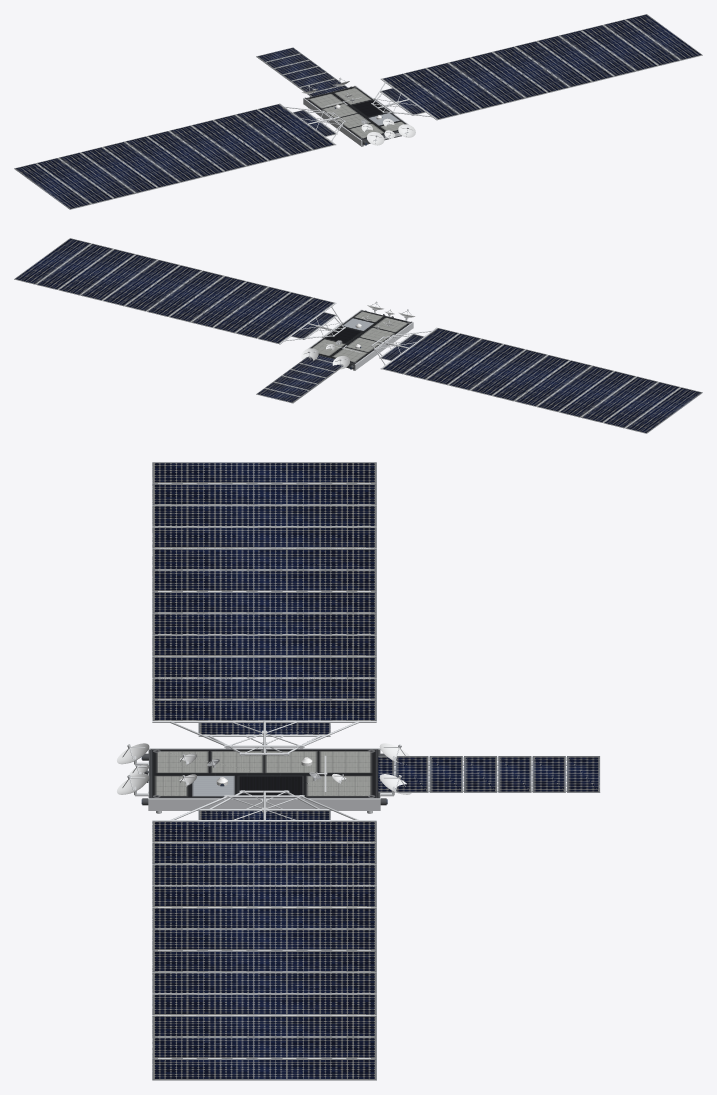
Rendered from Starlink.glb.
3 views of the same model, one above another, from view 1: azimuth 30°, elevation 25°; view 2: azimuth 150°, elevation 25°; view 3: azimuth 270°, elevation 25° (orthographic). The views are drawn at different scales.
Parts seen in each view (by area): view 1: V3_bus, V3_wL11, V3_wL1, V3_wL9, V3_wL3, V3_wL5, V3_wL6, V3_wL10, V3_wL2, V3_wR1, V3_wL4, V3_wL7 (+22 smaller); view 2: V3_bus, V3_wL11, V3_wL1, V3_wL9, V3_wL3, V3_wL5, V3_wL6, V3_wL10, V3_wL2, V3_wR1, V3_wL4, V3_wL7 (+23 smaller); view 3: V3_bus, V3_wL2, V3_wL7, V3_wR11, V3_wL4, V3_wL9, V3_wR2, V3_wR7, V3_wR4, V3_wR9, V3_wR3, V3_wR8 (+23 smaller).
Part boxes in pixels (x1,y1,x2,y2): V3_bus: (301, 77, 415, 146); V3_wL11: (14, 163, 91, 209); V3_wL1: (235, 109, 312, 155); V3_wL9: (58, 152, 135, 198); V3_wL3: (191, 120, 268, 166); V3_wL5: (147, 131, 224, 177); V3_wL6: (124, 136, 202, 182); V3_wL10: (36, 158, 113, 204); V3_wL2: (213, 114, 290, 161); V3_wR1: (404, 68, 481, 114); V3_wL4: (169, 125, 246, 171); V3_wL7: (103, 141, 179, 188); V3_bus: (301, 301, 415, 370); V3_wL11: (625, 387, 702, 433); V3_wL1: (404, 333, 481, 379); V3_wL9: (581, 376, 658, 422); V3_wL3: (448, 344, 525, 390); V3_wL5: (492, 355, 569, 401); V3_wL6: (514, 360, 592, 406); V3_wL10: (603, 382, 680, 428); V3_wL2: (426, 338, 503, 385); V3_wR1: (235, 292, 312, 338); V3_wL4: (470, 349, 547, 395); V3_wL7: (537, 365, 613, 412); V3_bus: (117, 743, 411, 813); V3_wL2: (152, 656, 376, 678); V3_wL7: (152, 548, 376, 570); V3_wR11: (152, 1058, 376, 1080); V3_wL4: (152, 613, 376, 635); V3_wL9: (152, 505, 376, 527); V3_wR2: (152, 863, 376, 885); V3_wR7: (152, 971, 376, 993); V3_wR4: (152, 907, 376, 929); V3_wR9: (152, 1015, 376, 1037); V3_wR3: (152, 885, 376, 907); V3_wR8: (152, 993, 376, 1015).
Bounding box in the file's own units: 44.31 × 1.03 × 14.66.
17 materials, 9 textured.
